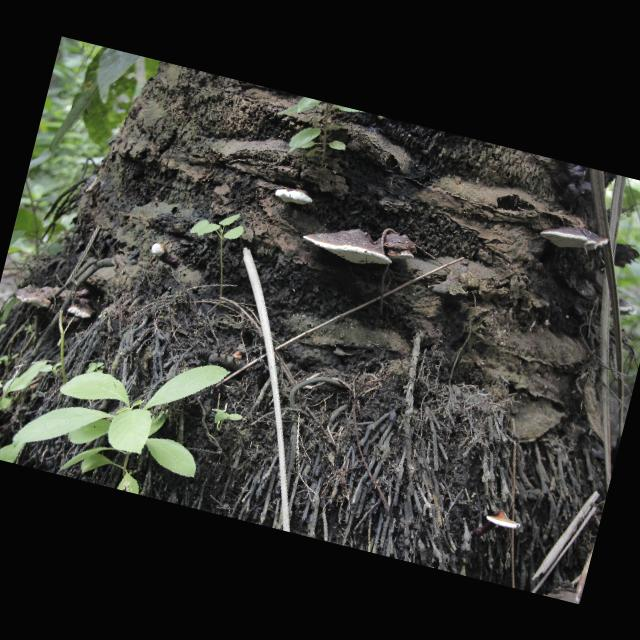ganoderma: (300, 216, 400, 274), (538, 218, 611, 260), (469, 505, 524, 549), (14, 279, 62, 313), (380, 230, 421, 266), (273, 184, 316, 210), (67, 295, 99, 322), (611, 297, 640, 319)
primordium: (150, 242, 169, 260)
